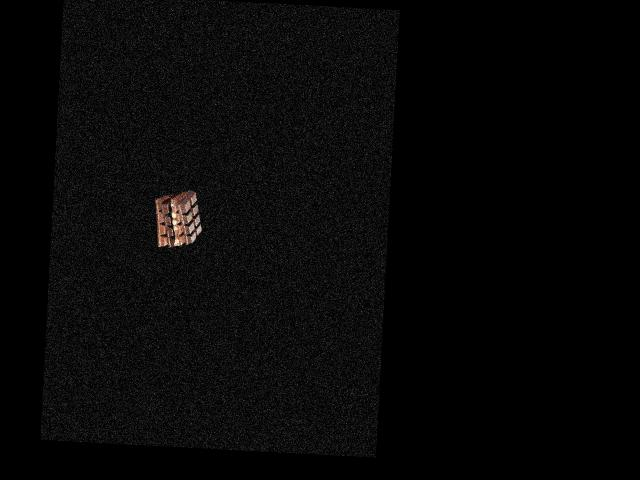chocolate: (150, 192, 203, 248)
